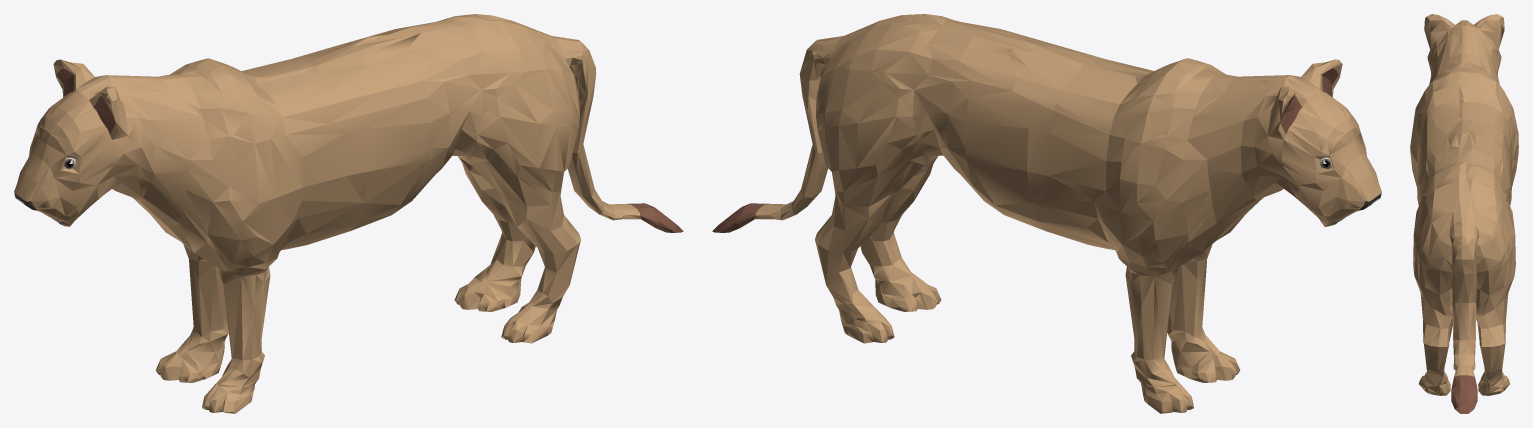
The model's file is lion.gltf.
The picture shows the model from 3 angles, left to right: view 1: azimuth 30°, elevation 25°; view 2: azimuth 150°, elevation 25°; view 3: azimuth 270°, elevation 25°; orthographic projection. The views are drawn at different scales.
Parts seen in each view (by area): view 1: Lion001; view 2: Lion001; view 3: Lion001.
Part boxes in pixels (x1,y1,x2,y2): Lion001: (14,14,683,413); Lion001: (712,14,1381,413); Lion001: (1410,14,1518,413).
Size of the model in its own units: 196 by 97.8 by 41.12.
